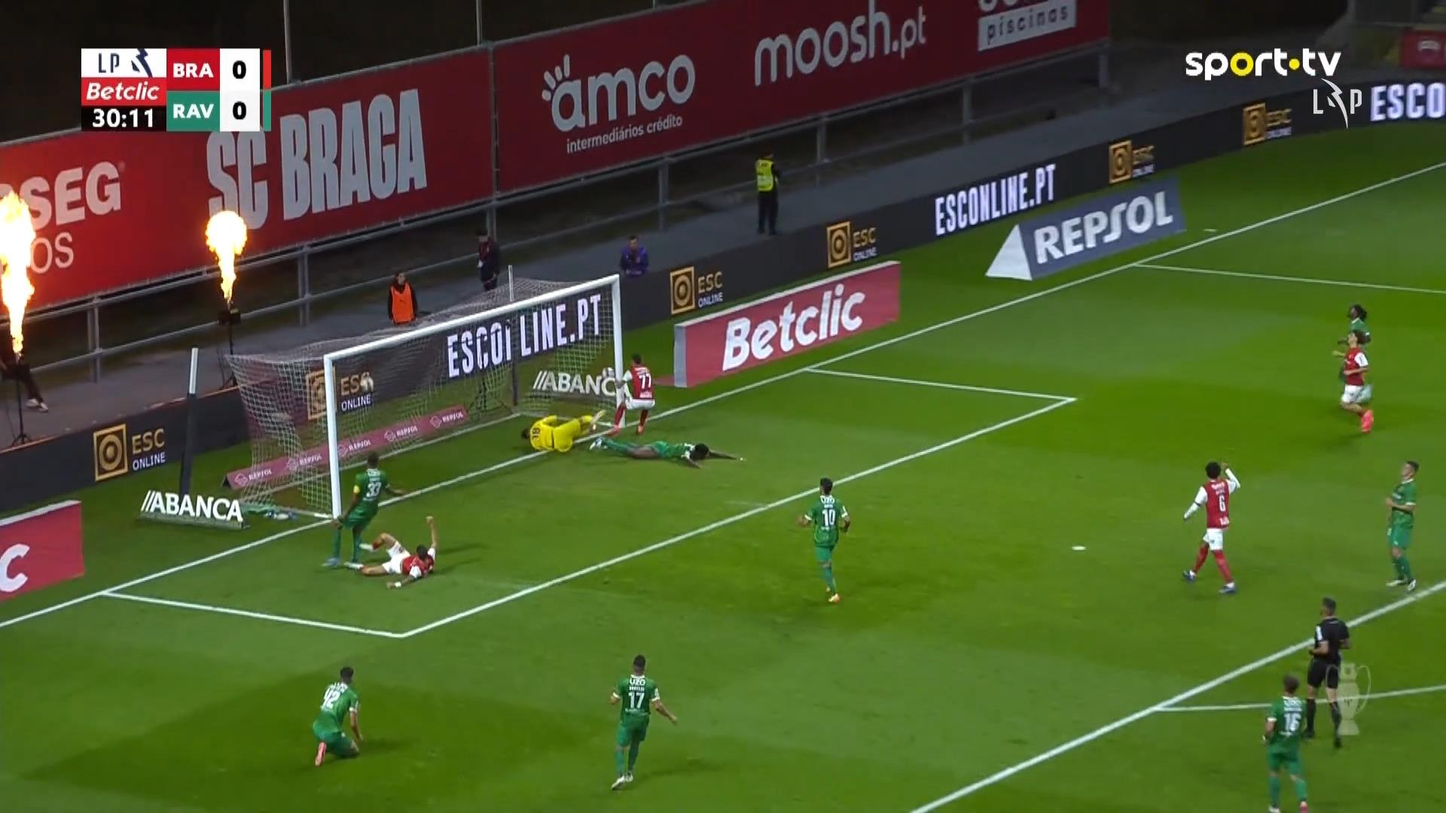ball: (1353, 329, 1371, 343), (609, 691, 620, 704)
goalkeeper: (520, 411, 606, 454)
player: (322, 450, 406, 568), (607, 653, 678, 790), (1180, 459, 1240, 594), (795, 477, 850, 603), (1261, 672, 1310, 811), (356, 514, 438, 589), (311, 665, 364, 766), (590, 434, 745, 467), (1383, 459, 1419, 591), (605, 352, 655, 437), (1334, 329, 1374, 433), (1332, 303, 1371, 356)
referee: (1300, 596, 1351, 748)
